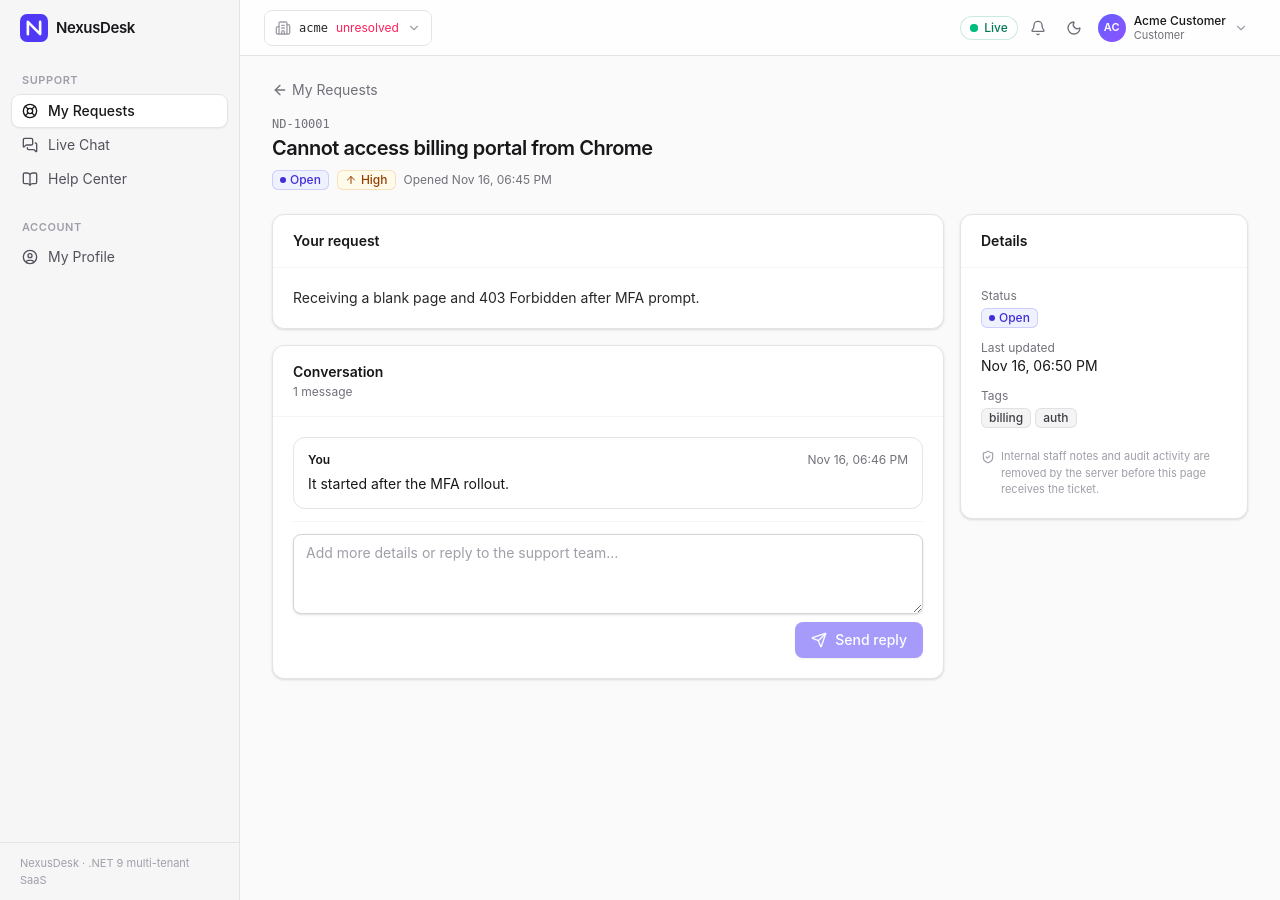
Scenario: Customer portal › renders the scrubbed customer ticket (no internal notes) and posts a reply
Check: the heading "Cannot access billing portal from Chrome" is shown, box [272,136,653,160]
Check: the list item with test id "portal-comment-c-1" shows "It started after the MFA rollout.", box [308,475,509,492]
In the text box named "Your reply": (608, 574) [293,534,923,614], type "Thank you, I found the file!"
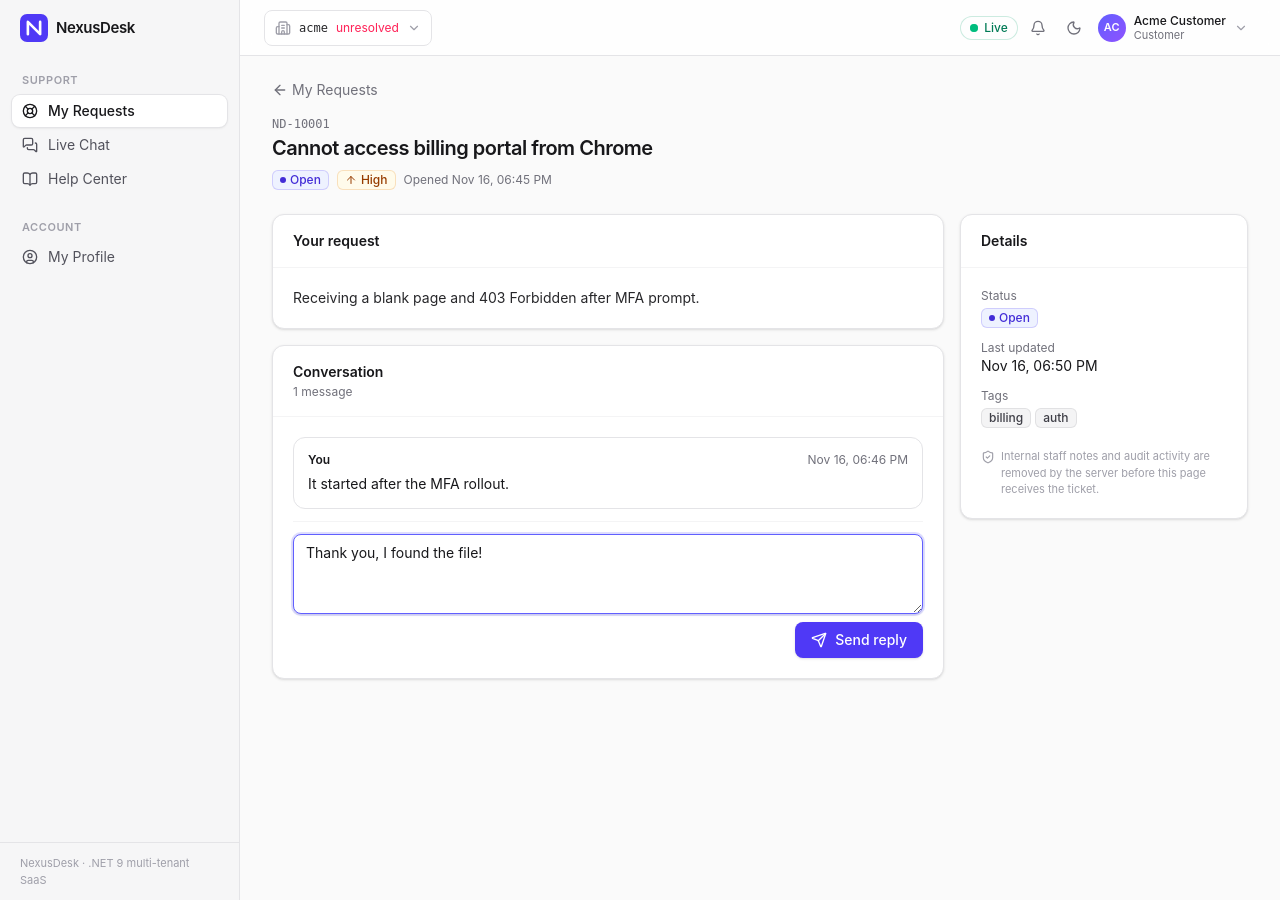
Click the button "Send reply": click(859, 640) [795,622,923,658]
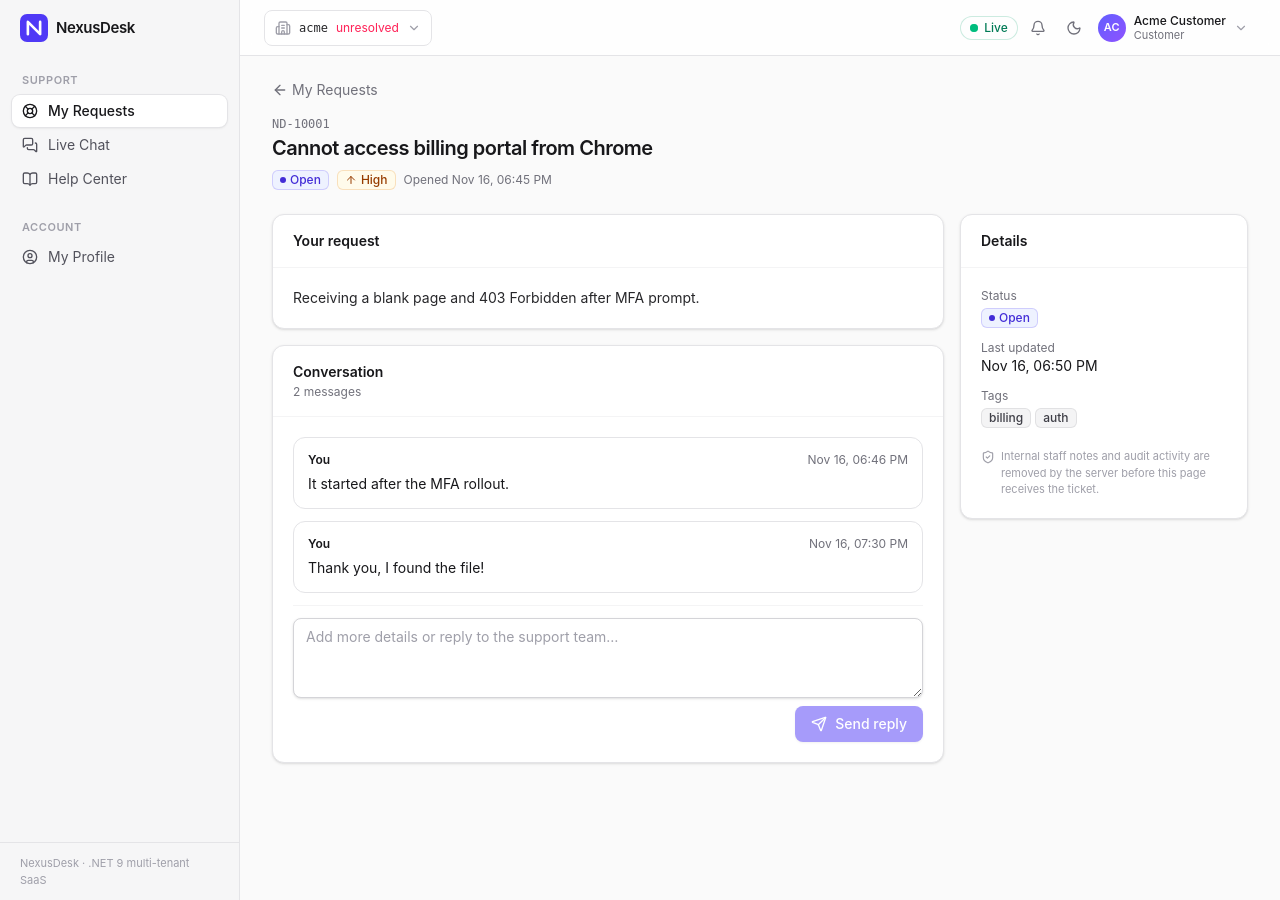
Check: the list item with test id "portal-comment-c-new" shows "You", box [308,536,330,551]
Check: the text box named "Your reply" is empty, box [293,618,923,698]
